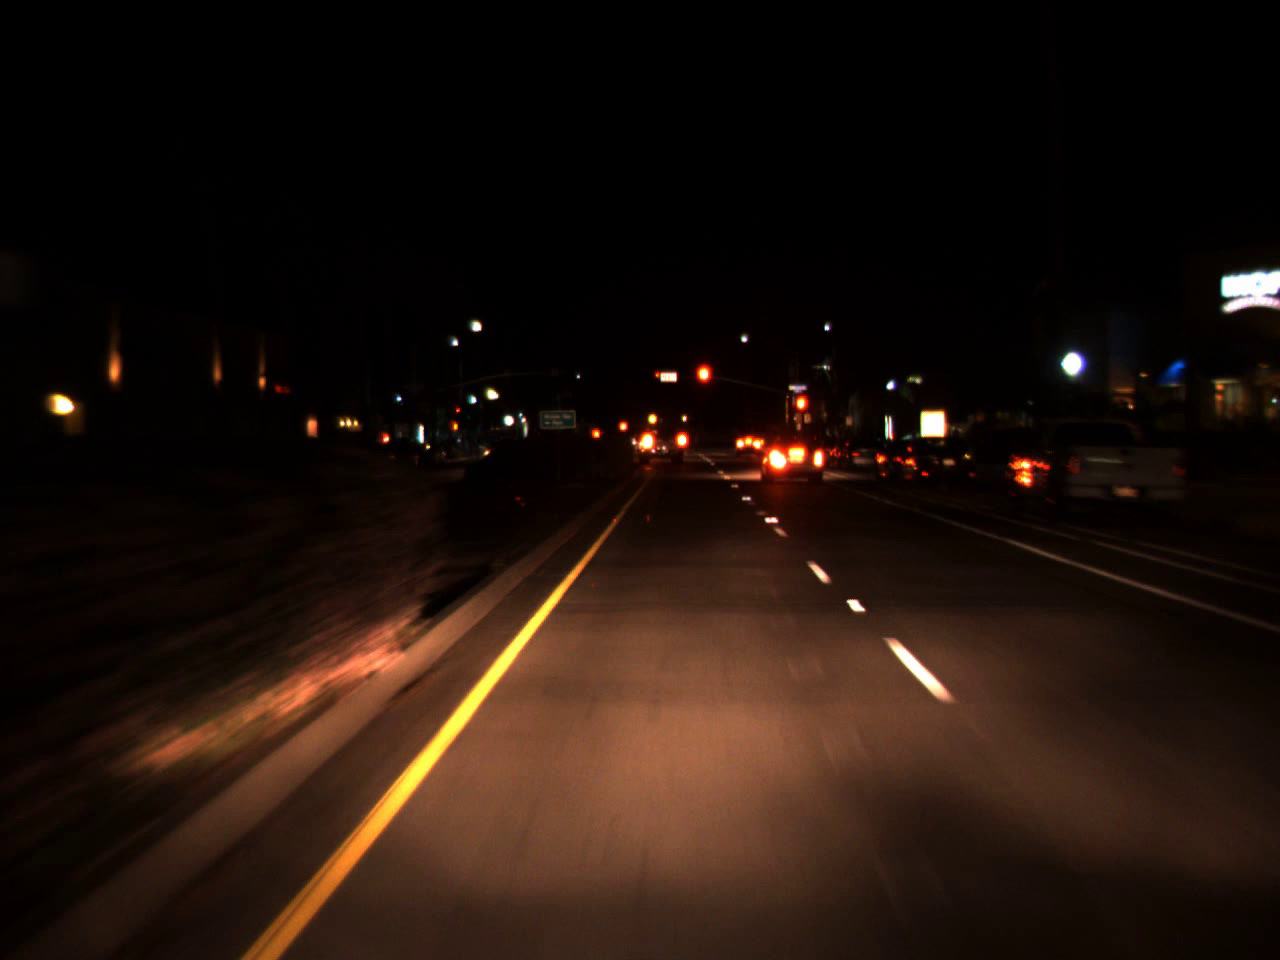stop: (693, 362, 714, 405), (793, 392, 811, 429), (655, 370, 661, 386), (455, 407, 461, 417)
